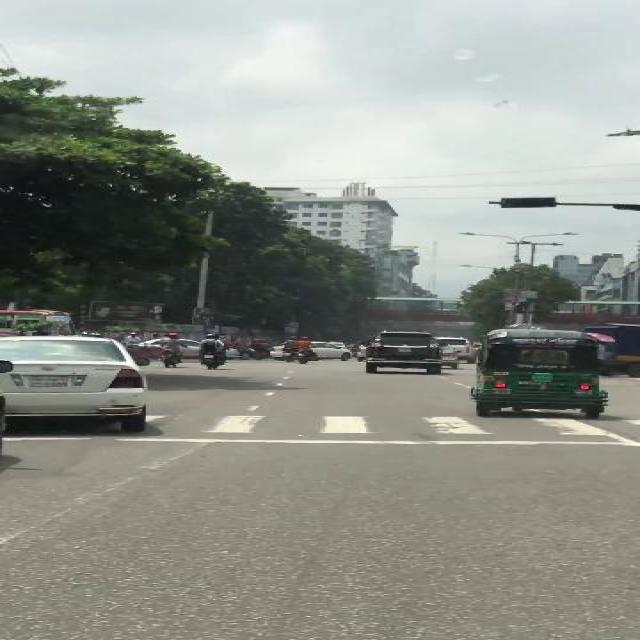bike: (195, 333, 227, 372), (159, 333, 189, 369), (295, 336, 315, 364), (248, 339, 273, 361), (279, 336, 295, 364)
vehicle: (4, 336, 154, 436), (469, 327, 611, 421), (361, 330, 445, 375), (447, 338, 479, 365)
